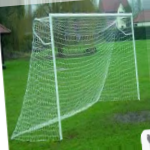goals: (11, 11, 143, 141)
